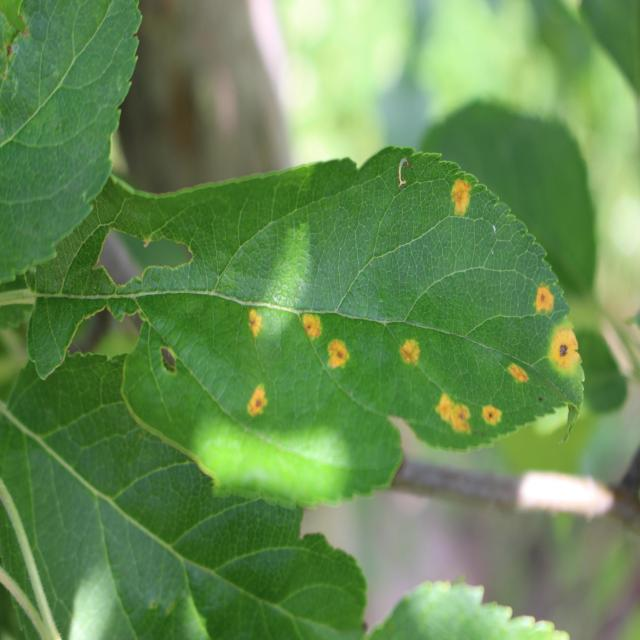Rust: (417, 387, 479, 450), (444, 169, 484, 243), (238, 363, 278, 435), (383, 317, 431, 373), (549, 326, 589, 393), (521, 265, 557, 327), (326, 328, 359, 385), (497, 343, 531, 395), (232, 295, 274, 337), (288, 306, 325, 343), (477, 400, 508, 443)
